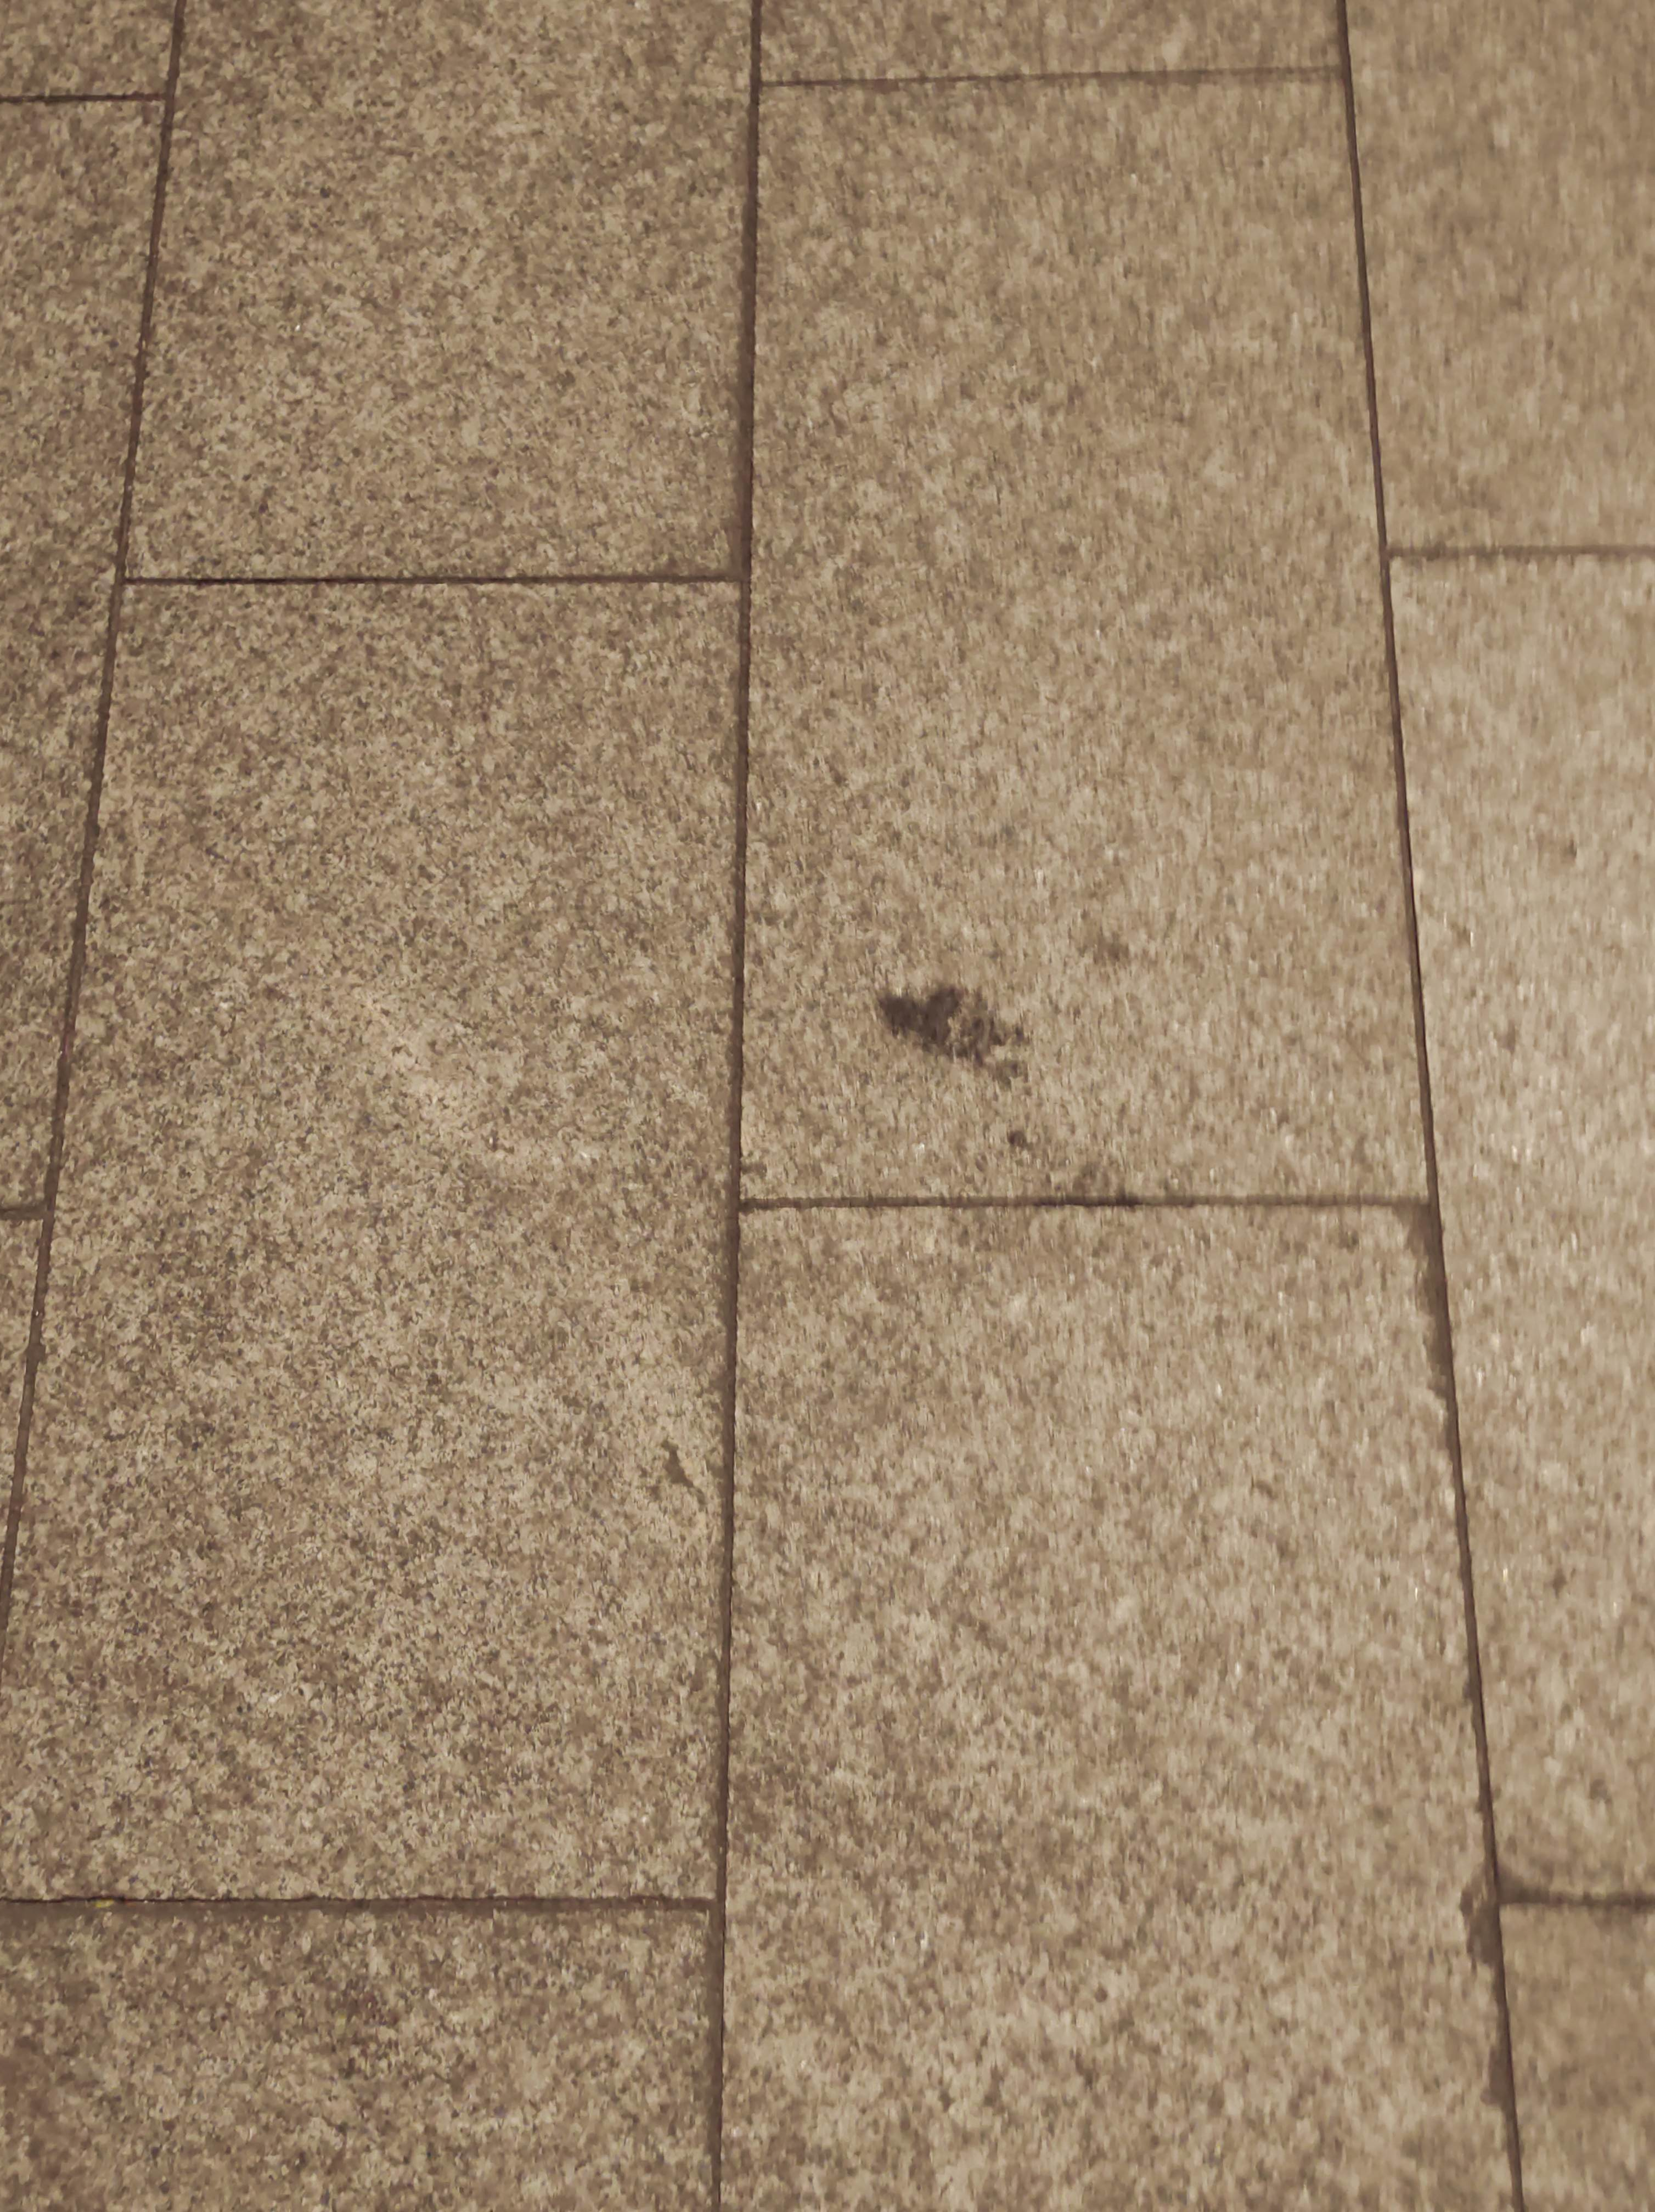grey spot: (880, 983, 1029, 1091)
